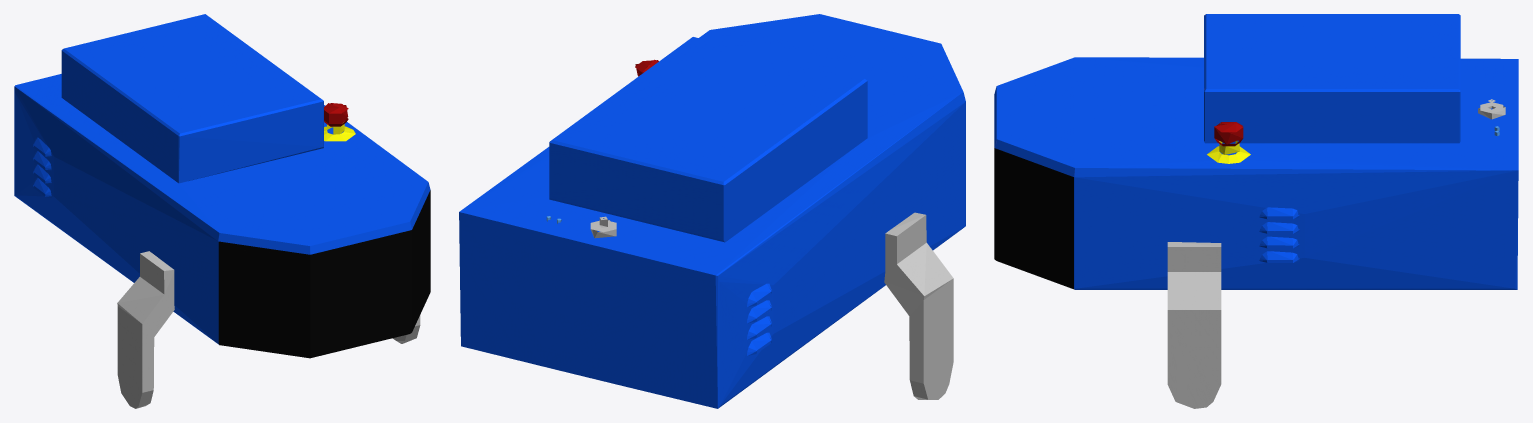
The model's file is body.dae.
3 views of the same model, side by side, from view 1: azimuth 30°, elevation 25°; view 2: azimuth 150°, elevation 25°; view 3: azimuth 270°, elevation 25° (orthographic). The views are drawn at different scales.
Visible parts, largest first — view 1: node; view 2: node; view 3: node.
Boxes of the visible parts, x1,y1,x2,y2 form: node: (14, 14, 430, 408); node: (459, 14, 965, 408); node: (994, 14, 1518, 408).
Size of the model in its own units: 2.89 by 2.53 by 4.34.
1 material, 1 textured.
